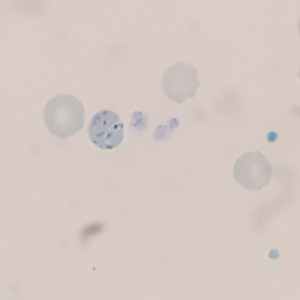aggregate reticulocyte: (86, 108, 126, 152)
erythrocyte: (41, 92, 87, 140), (160, 62, 202, 104)
punctate reticulocyte: (231, 149, 274, 193)
